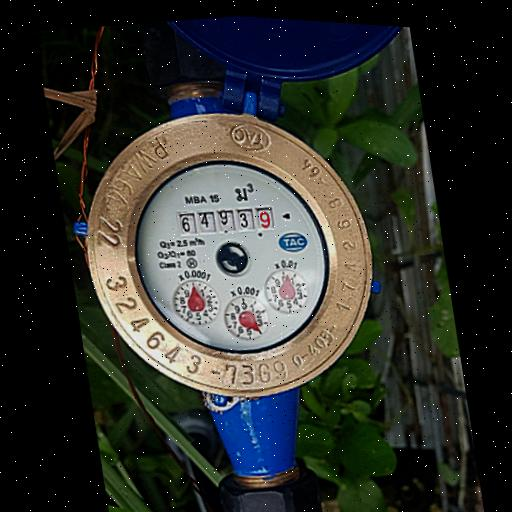3: (238, 208, 255, 230)
4: (198, 211, 216, 233)
6: (180, 211, 196, 235)
9: (218, 207, 235, 232), (257, 207, 274, 231)
border_water_meter_number: (173, 194, 280, 247)
